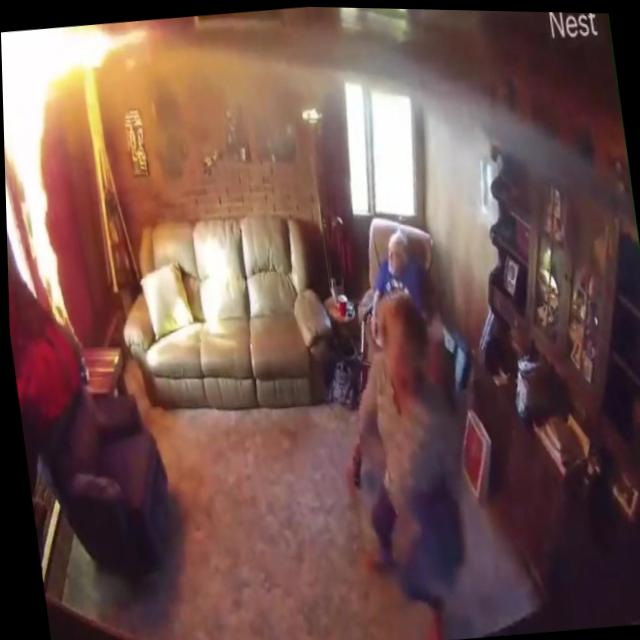fire: (1, 28, 69, 331), (0, 18, 150, 96)
